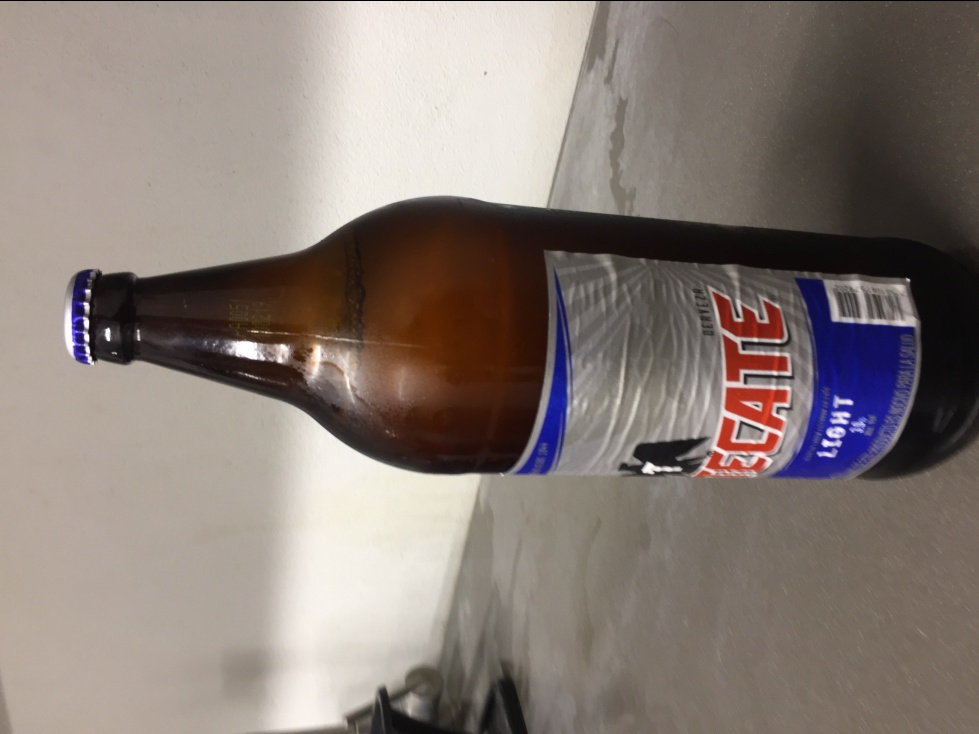tecateC: (64, 195, 979, 488)
